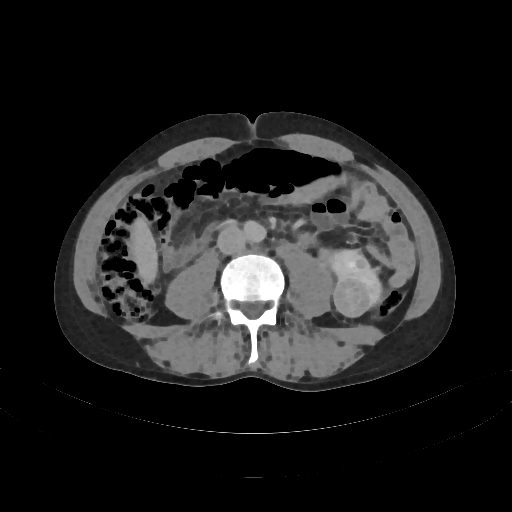Lesion: (332, 272, 375, 321)
